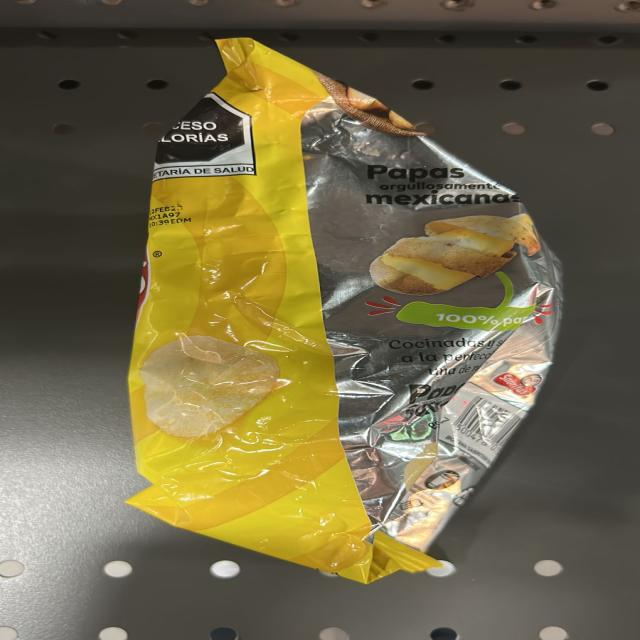productoAtras: (228, 64, 530, 571)
